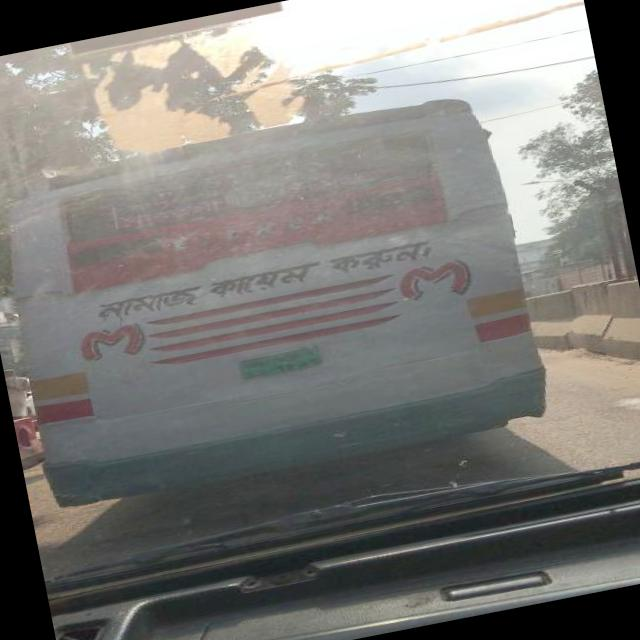bus: (0, 76, 575, 544)
